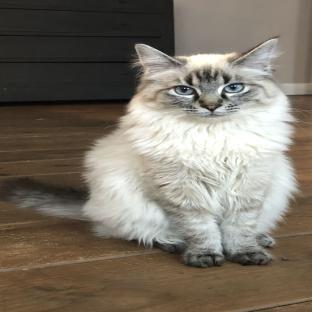Animal: (2, 37, 298, 268)
